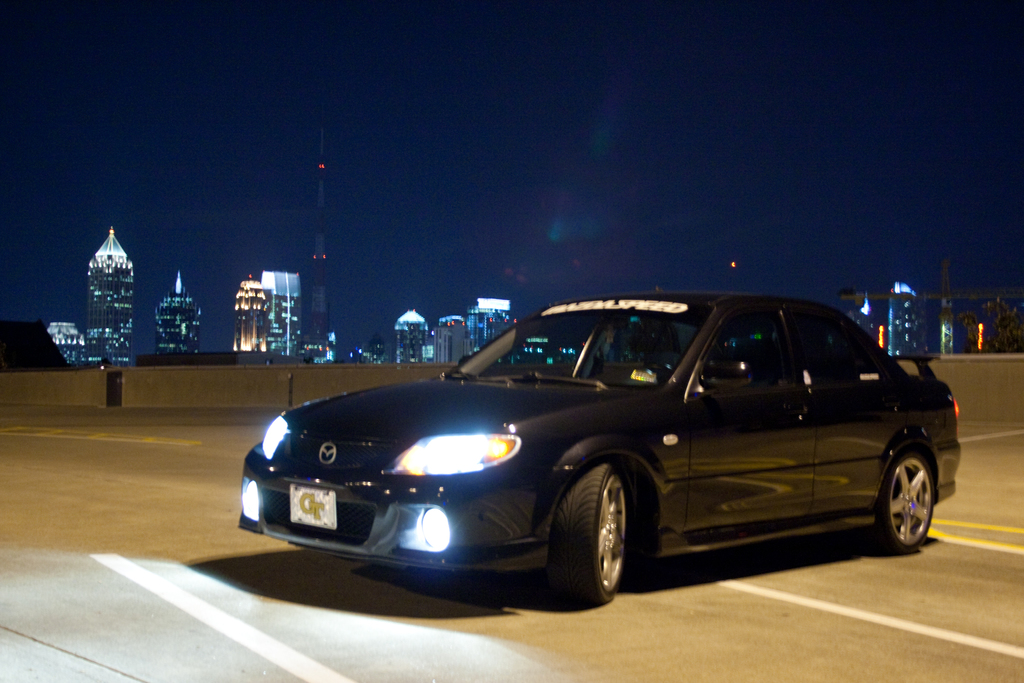Car: (237, 287, 965, 598)
